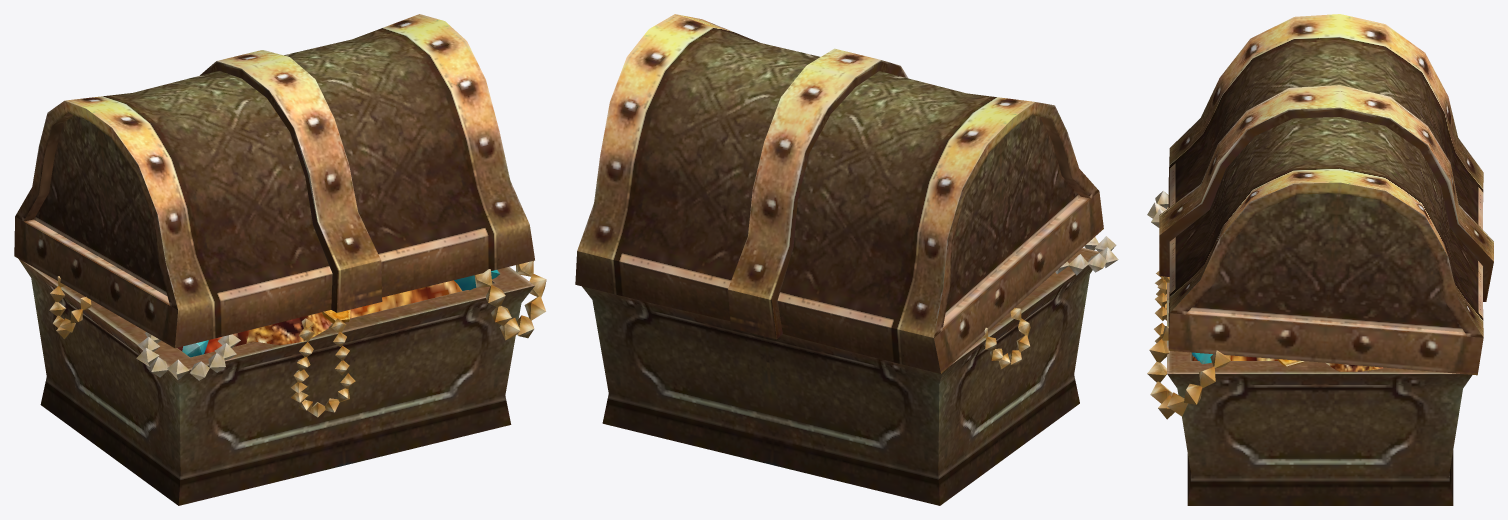
Rendered from treasure_chest.glb.
The picture shows the model from 3 angles, left to right: view 1: azimuth 30°, elevation 25°; view 2: azimuth 150°, elevation 25°; view 3: azimuth 270°, elevation 25°; orthographic projection. The views are drawn at different scales.
Parts seen in each view (by area): view 1: default029_Material #167_0; view 2: default029_Material #167_0; view 3: default029_Material #167_0.
Part boxes in pixels (x1,y1,x2,y2): default029_Material #167_0: (14, 14, 546, 505); default029_Material #167_0: (575, 14, 1118, 505); default029_Material #167_0: (1147, 14, 1493, 505).
Bounding box in the file's own units: 0.0136 × 0.011 × 0.0104.
Materials: 1 (1 with a texture image).
